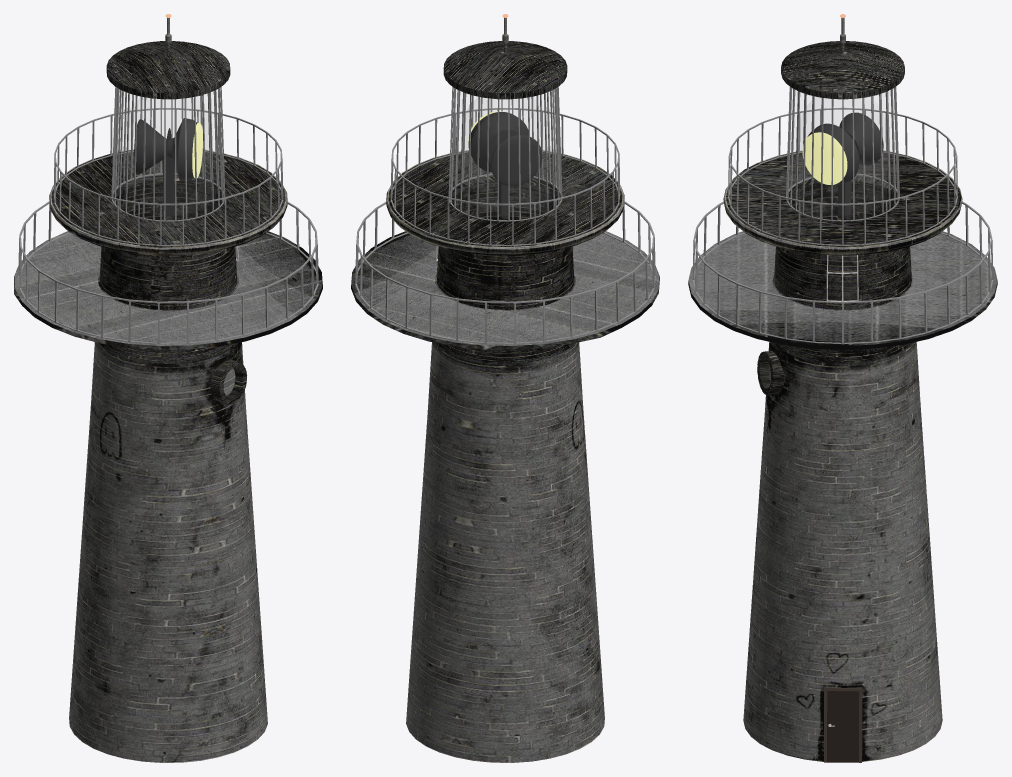
Rendered from faro.glb.
3 views of the same model, side by side, from view 1: azimuth 30°, elevation 25°; view 2: azimuth 150°, elevation 25°; view 3: azimuth 270°, elevation 25° (orthographic).
Visible parts, largest first — view 1: Object_4, Object_5, Object_11, Object_15, Object_6; view 2: Object_4, Object_5, Object_11, Object_6, Object_15; view 3: Object_4, Object_5, Object_11, Object_6, Object_15, Object_13.
Boxes of the visible parts, left/top/right/bottom form: Object_4: left=14, top=18, right=322, bottom=762; Object_5: left=14, top=41, right=322, bottom=404; Object_11: left=18, top=86, right=318, bottom=344; Object_15: left=123, top=97, right=236, bottom=258; Object_6: left=134, top=118, right=238, bottom=261; Object_4: left=351, top=18, right=659, bottom=762; Object_5: left=351, top=41, right=659, bottom=363; Object_11: left=355, top=86, right=655, bottom=344; Object_6: left=435, top=112, right=542, bottom=261; Object_15: left=460, top=97, right=550, bottom=194; Object_4: left=688, top=17, right=997, bottom=761; Object_5: left=688, top=41, right=997, bottom=395; Object_11: left=692, top=86, right=993, bottom=344; Object_6: left=807, top=112, right=883, bottom=762; Object_15: left=799, top=97, right=886, bottom=195; Object_13: left=802, top=132, right=847, bottom=184.
Size of the model in its own units: 2.7 by 6.84 by 2.7.
Materials: 7 (7 with a texture image).
